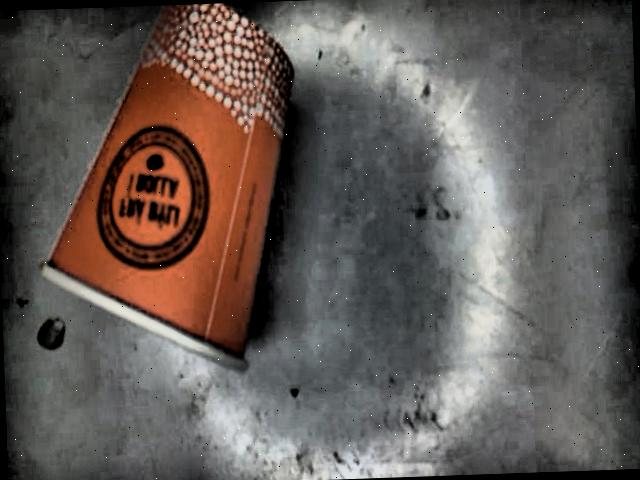Paper: (36, 3, 296, 372)
